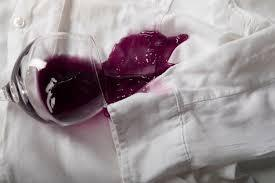oil: (57, 39, 179, 107), (111, 27, 186, 79)
